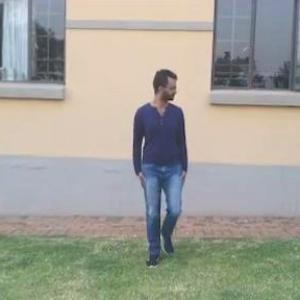follow: (133, 63, 196, 284)
